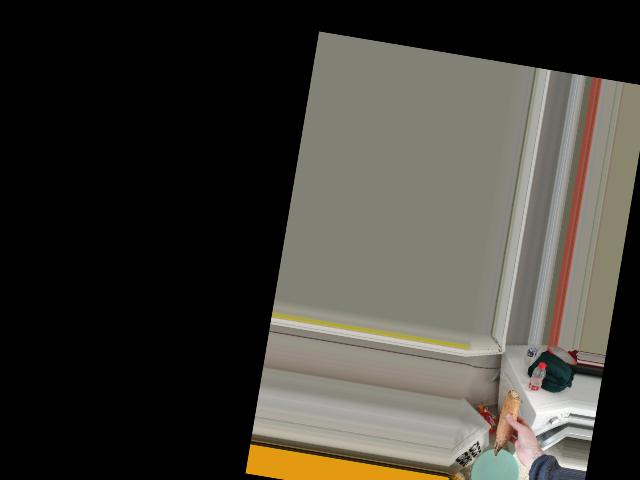sweet_potato: (487, 384, 527, 460)
